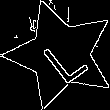L_NW: (31, 25, 90, 84)
